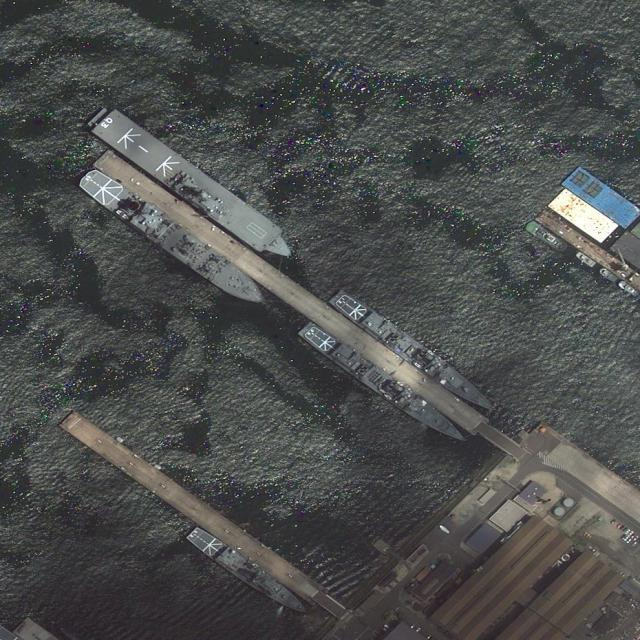Auxiliary Ships: (76, 164, 271, 313)
Destroyer: (295, 314, 473, 453), (325, 284, 504, 421)
Dock: (95, 146, 522, 465), (56, 403, 348, 621)
Landing: (83, 98, 303, 270)
Other Ship: (523, 217, 570, 256), (597, 266, 620, 285), (575, 250, 597, 269), (618, 280, 640, 298)
